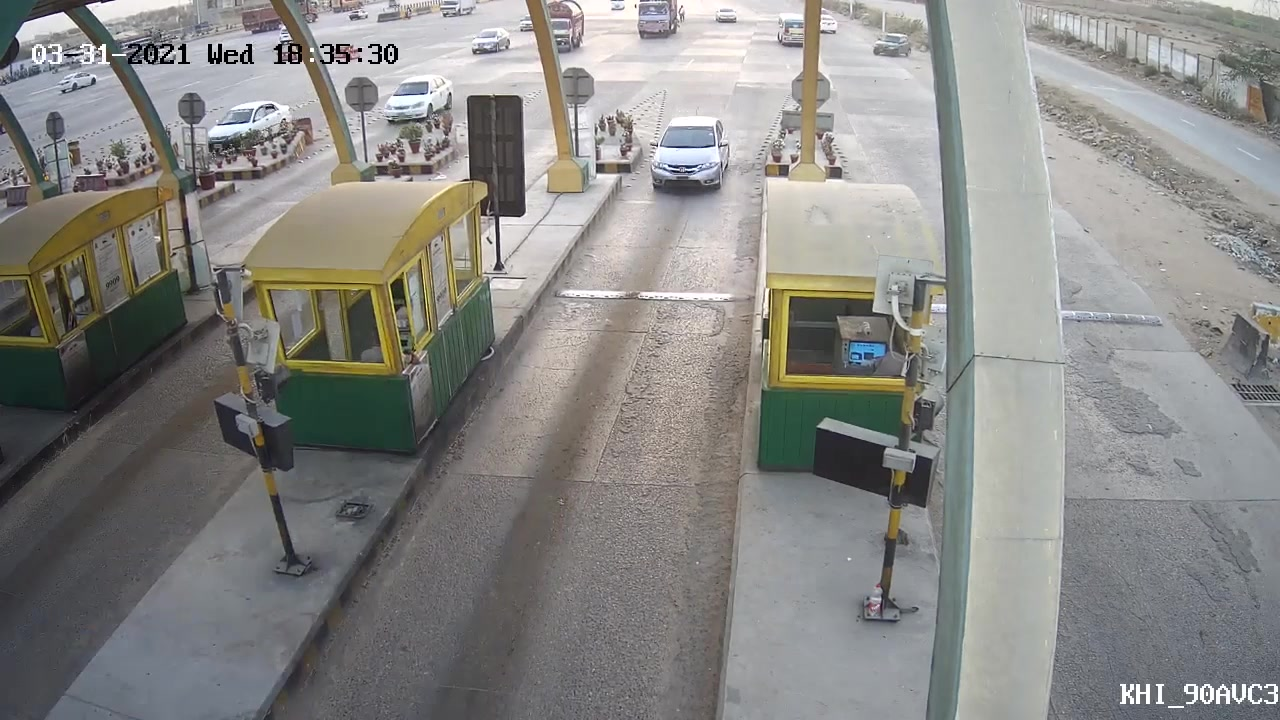F1: (639, 113, 736, 199)
